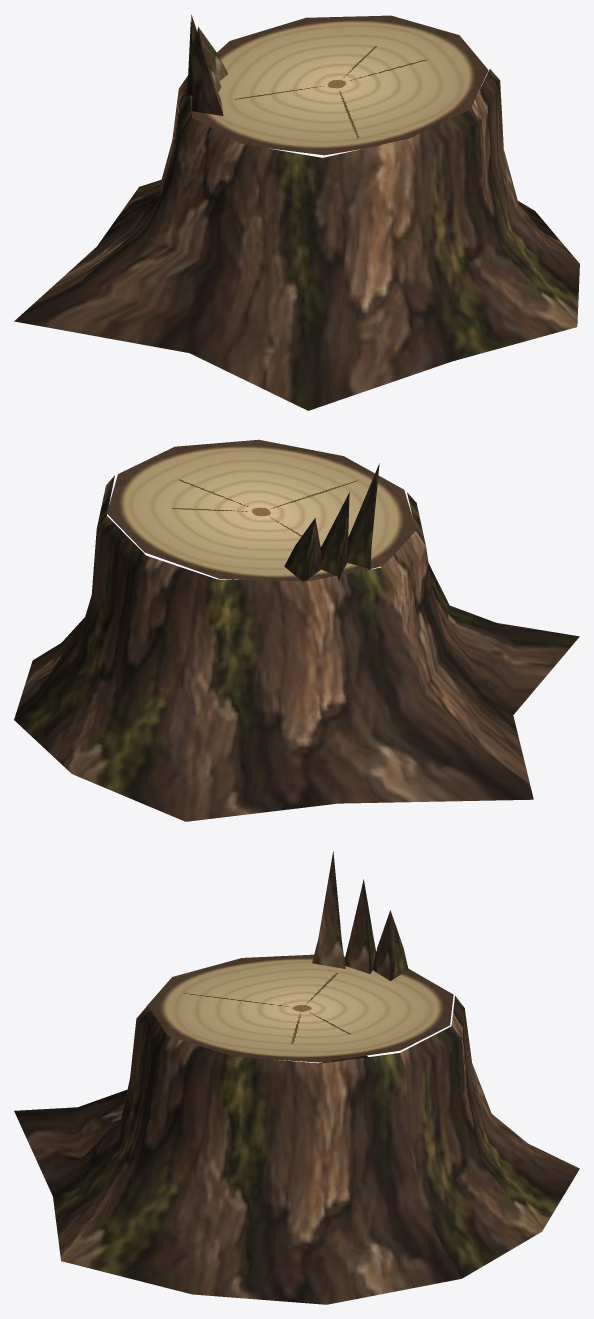
File: tree_stump.glb
The picture shows the model from 3 angles, top to bottom: view 1: azimuth 30°, elevation 25°; view 2: azimuth 150°, elevation 25°; view 3: azimuth 270°, elevation 25°; orthographic projection. The views are drawn at different scales.
Parts seen in each view (by area): view 1: tree_stump; view 2: tree_stump; view 3: tree_stump.
Boxes of the visible parts, x1,y1,x2,y2 form: tree_stump: [14, 14, 579, 410]; tree_stump: [14, 439, 579, 821]; tree_stump: [14, 851, 579, 1304].
Size of the model in its own units: 1.19 by 0.6241 by 1.13.
2 materials, 2 textured.
